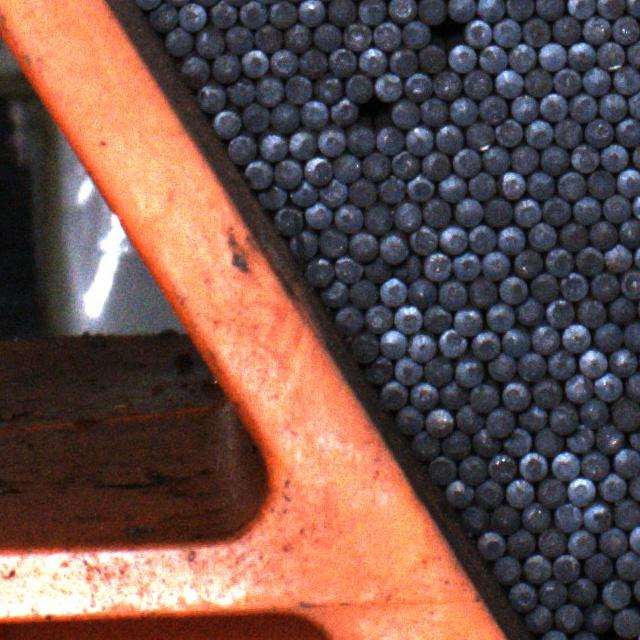tool: (440, 429, 470, 460), (302, 155, 332, 186), (410, 431, 440, 461), (537, 527, 566, 558), (549, 402, 577, 434), (403, 72, 432, 102), (268, 103, 297, 133), (298, 99, 328, 128), (448, 96, 478, 125), (464, 122, 494, 151), (489, 506, 520, 534), (375, 125, 404, 154), (447, 43, 476, 72), (566, 41, 595, 70), (181, 57, 209, 87), (349, 332, 377, 362), (492, 555, 520, 585), (554, 604, 582, 634), (459, 455, 487, 485), (550, 450, 578, 480), (318, 228, 346, 258), (360, 152, 390, 180), (434, 124, 462, 154), (364, 204, 392, 234), (584, 602, 611, 633), (212, 52, 239, 83), (394, 405, 422, 434), (508, 582, 536, 611), (568, 578, 596, 607), (584, 553, 612, 582), (518, 451, 546, 480), (580, 451, 608, 480), (566, 528, 594, 557), (226, 76, 254, 105), (342, 22, 370, 51), (388, 48, 417, 76), (288, 129, 316, 158), (492, 18, 520, 47), (478, 44, 507, 72), (404, 125, 432, 154), (454, 357, 482, 386), (590, 272, 618, 301), (593, 322, 621, 351), (227, 134, 254, 164), (425, 408, 452, 438), (613, 608, 640, 638), (602, 579, 629, 609), (522, 502, 549, 532), (507, 529, 534, 559), (196, 27, 223, 57), (269, 48, 296, 78), (418, 44, 445, 74), (419, 96, 446, 126), (596, 40, 623, 70), (614, 400, 640, 431), (274, 207, 302, 235), (364, 356, 392, 384), (538, 580, 566, 608), (474, 480, 502, 508), (566, 478, 594, 506), (598, 527, 626, 555), (349, 280, 377, 308), (364, 304, 392, 332), (409, 381, 437, 409), (238, 0, 266, 28), (268, 0, 296, 28), (298, 50, 326, 78), (332, 154, 360, 182), (538, 42, 566, 70), (524, 68, 552, 96), (612, 66, 640, 94), (568, 93, 596, 121), (452, 148, 480, 176), (318, 178, 346, 206), (348, 178, 376, 206), (149, 2, 176, 31), (488, 453, 515, 482), (538, 479, 565, 508), (554, 502, 581, 531), (253, 25, 282, 52), (358, 47, 385, 76), (345, 74, 372, 103), (392, 150, 419, 179), (432, 70, 459, 99), (478, 94, 505, 123), (582, 66, 609, 95), (583, 119, 612, 146), (394, 202, 421, 231), (379, 235, 406, 264), (439, 379, 466, 408), (474, 427, 501, 456), (513, 198, 540, 227), (531, 325, 558, 354), (560, 271, 586, 301), (212, 111, 240, 138), (429, 456, 456, 484), (613, 448, 640, 476), (506, 479, 533, 507), (274, 159, 301, 187), (312, 24, 340, 51), (328, 48, 355, 76), (255, 78, 282, 106), (374, 73, 401, 101), (328, 98, 356, 125), (316, 128, 344, 155), (463, 70, 490, 98), (494, 70, 522, 97), (493, 119, 521, 146), (524, 120, 551, 148), (421, 153, 449, 180), (570, 144, 598, 171), (405, 173, 433, 200), (438, 174, 465, 202), (334, 204, 361, 232), (409, 226, 436, 254), (454, 198, 482, 225), (438, 280, 465, 308), (486, 302, 513, 330), (438, 329, 466, 356), (470, 384, 497, 412), (455, 405, 482, 433), (503, 428, 530, 456), (528, 222, 555, 250), (573, 196, 600, 224), (546, 299, 573, 327), (577, 299, 604, 327), (562, 324, 589, 352), (578, 350, 606, 377), (566, 424, 594, 451), (336, 306, 362, 335), (524, 554, 550, 583), (583, 502, 609, 531), (325, 0, 354, 26), (283, 23, 309, 52), (522, 17, 548, 46), (538, 94, 567, 120), (612, 15, 638, 44), (350, 233, 376, 262), (503, 382, 529, 411), (558, 171, 584, 200), (576, 246, 602, 275), (615, 550, 640, 580), (446, 479, 473, 506), (477, 531, 504, 558), (178, 3, 205, 30), (209, 0, 236, 27), (401, 21, 428, 48), (511, 96, 538, 123), (509, 146, 536, 173), (439, 227, 466, 254), (467, 225, 494, 252), (423, 305, 450, 332), (484, 200, 511, 227), (542, 197, 569, 224), (502, 328, 529, 355), (595, 374, 622, 401), (596, 425, 623, 452), (196, 84, 224, 110), (290, 230, 316, 258), (306, 258, 332, 286), (614, 500, 640, 528), (334, 256, 362, 282), (379, 330, 405, 358), (372, 21, 398, 49), (284, 75, 310, 103), (347, 126, 373, 154), (464, 20, 490, 48), (600, 93, 626, 121), (554, 120, 580, 148), (482, 146, 508, 174), (600, 144, 628, 170), (423, 253, 449, 281), (486, 409, 512, 437), (560, 223, 586, 251), (546, 248, 572, 276), (531, 272, 557, 300), (589, 221, 615, 249), (604, 244, 630, 272), (566, 374, 592, 402), (580, 400, 606, 428), (243, 103, 268, 132), (409, 277, 434, 306), (244, 161, 270, 188), (525, 605, 551, 632), (225, 27, 251, 54), (392, 101, 418, 128), (508, 44, 534, 71), (553, 16, 579, 43), (553, 68, 579, 95), (424, 200, 450, 227), (497, 226, 523, 253), (394, 306, 421, 332), (498, 276, 525, 302), (454, 308, 480, 335), (588, 170, 614, 197), (515, 250, 542, 276), (603, 194, 629, 221), (518, 352, 544, 379), (610, 349, 636, 376), (381, 381, 406, 409), (462, 506, 487, 534), (553, 554, 578, 582), (598, 474, 626, 499), (469, 172, 494, 200), (409, 333, 434, 361), (424, 357, 449, 385), (356, 0, 385, 24), (380, 277, 404, 306), (260, 134, 286, 160), (290, 180, 316, 206), (298, 0, 324, 26), (541, 147, 567, 173), (482, 253, 508, 279), (472, 332, 498, 358), (608, 298, 634, 324), (548, 352, 574, 378), (534, 380, 560, 406), (166, 27, 191, 54), (395, 357, 420, 384), (241, 49, 266, 76), (314, 76, 339, 103), (582, 17, 609, 42), (453, 252, 478, 279), (499, 171, 524, 198), (616, 168, 640, 196), (256, 185, 285, 208), (386, 0, 416, 22), (321, 280, 346, 306), (304, 202, 330, 227), (615, 118, 640, 144), (470, 279, 496, 304), (489, 353, 514, 379), (519, 405, 545, 430), (528, 172, 553, 198), (518, 297, 542, 324), (363, 257, 388, 282), (379, 178, 405, 202), (395, 255, 419, 281), (536, 428, 560, 454), (476, 0, 504, 22), (534, 0, 563, 21), (418, 0, 444, 23), (448, 0, 475, 21), (506, 0, 534, 20), (620, 270, 640, 298), (620, 220, 640, 247), (566, 0, 594, 19), (595, 0, 624, 18), (623, 323, 640, 351), (625, 40, 640, 70), (626, 374, 640, 402), (627, 90, 640, 118)
void: (355, 98, 391, 128), (428, 20, 462, 49)
